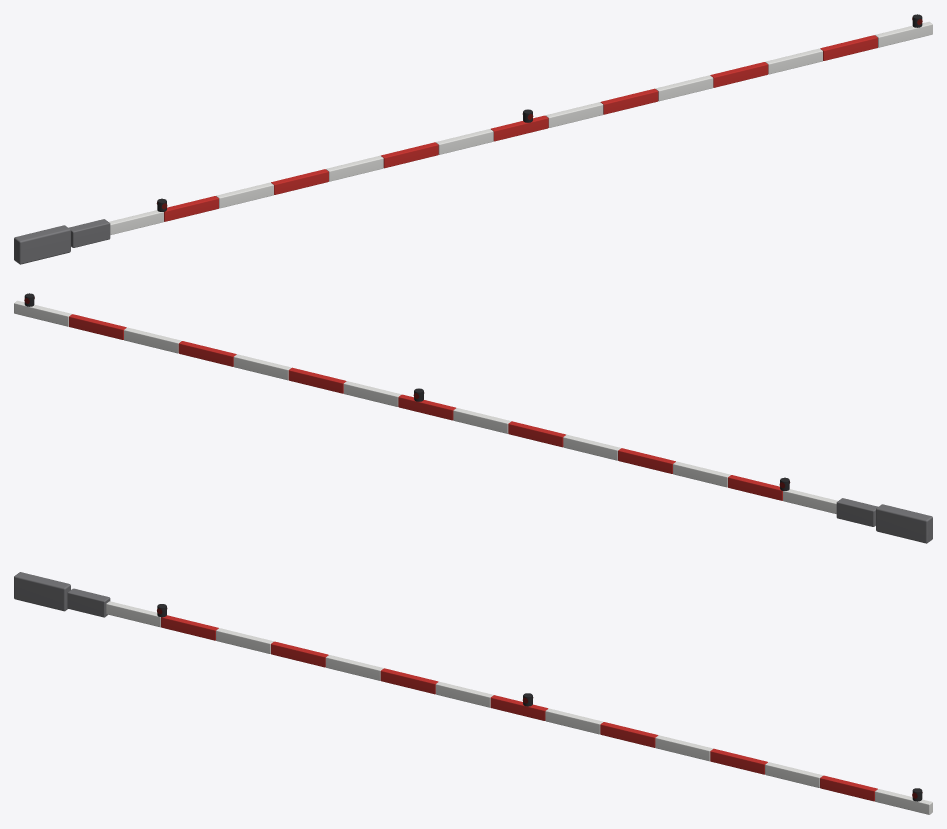
The model's file is lx_boom_9.glb.
3 views of the same model, one above another, from view 1: azimuth 30°, elevation 25°; view 2: azimuth 150°, elevation 25°; view 3: azimuth 330°, elevation 25° (orthographic).
Visible parts, largest first — view 1: SM_lx_boom_9; view 2: SM_lx_boom_9; view 3: SM_lx_boom_9.
Boxes of the visible parts, x1=… form: SM_lx_boom_9: x1=14, y1=14, x2=932, y2=264; SM_lx_boom_9: x1=14, y1=293, x2=932, y2=543; SM_lx_boom_9: x1=14, y1=572, x2=932, y2=814.
Bounding box in the file's own units: 9.75 × 0.275 × 0.12.
